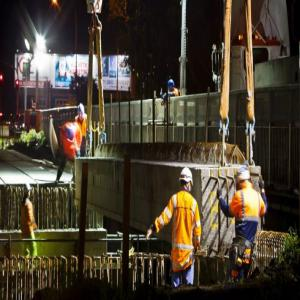blue: (67, 124, 77, 144), (79, 105, 86, 122), (169, 79, 175, 93)
white: (180, 166, 194, 194), (237, 166, 252, 191), (24, 182, 32, 199)
